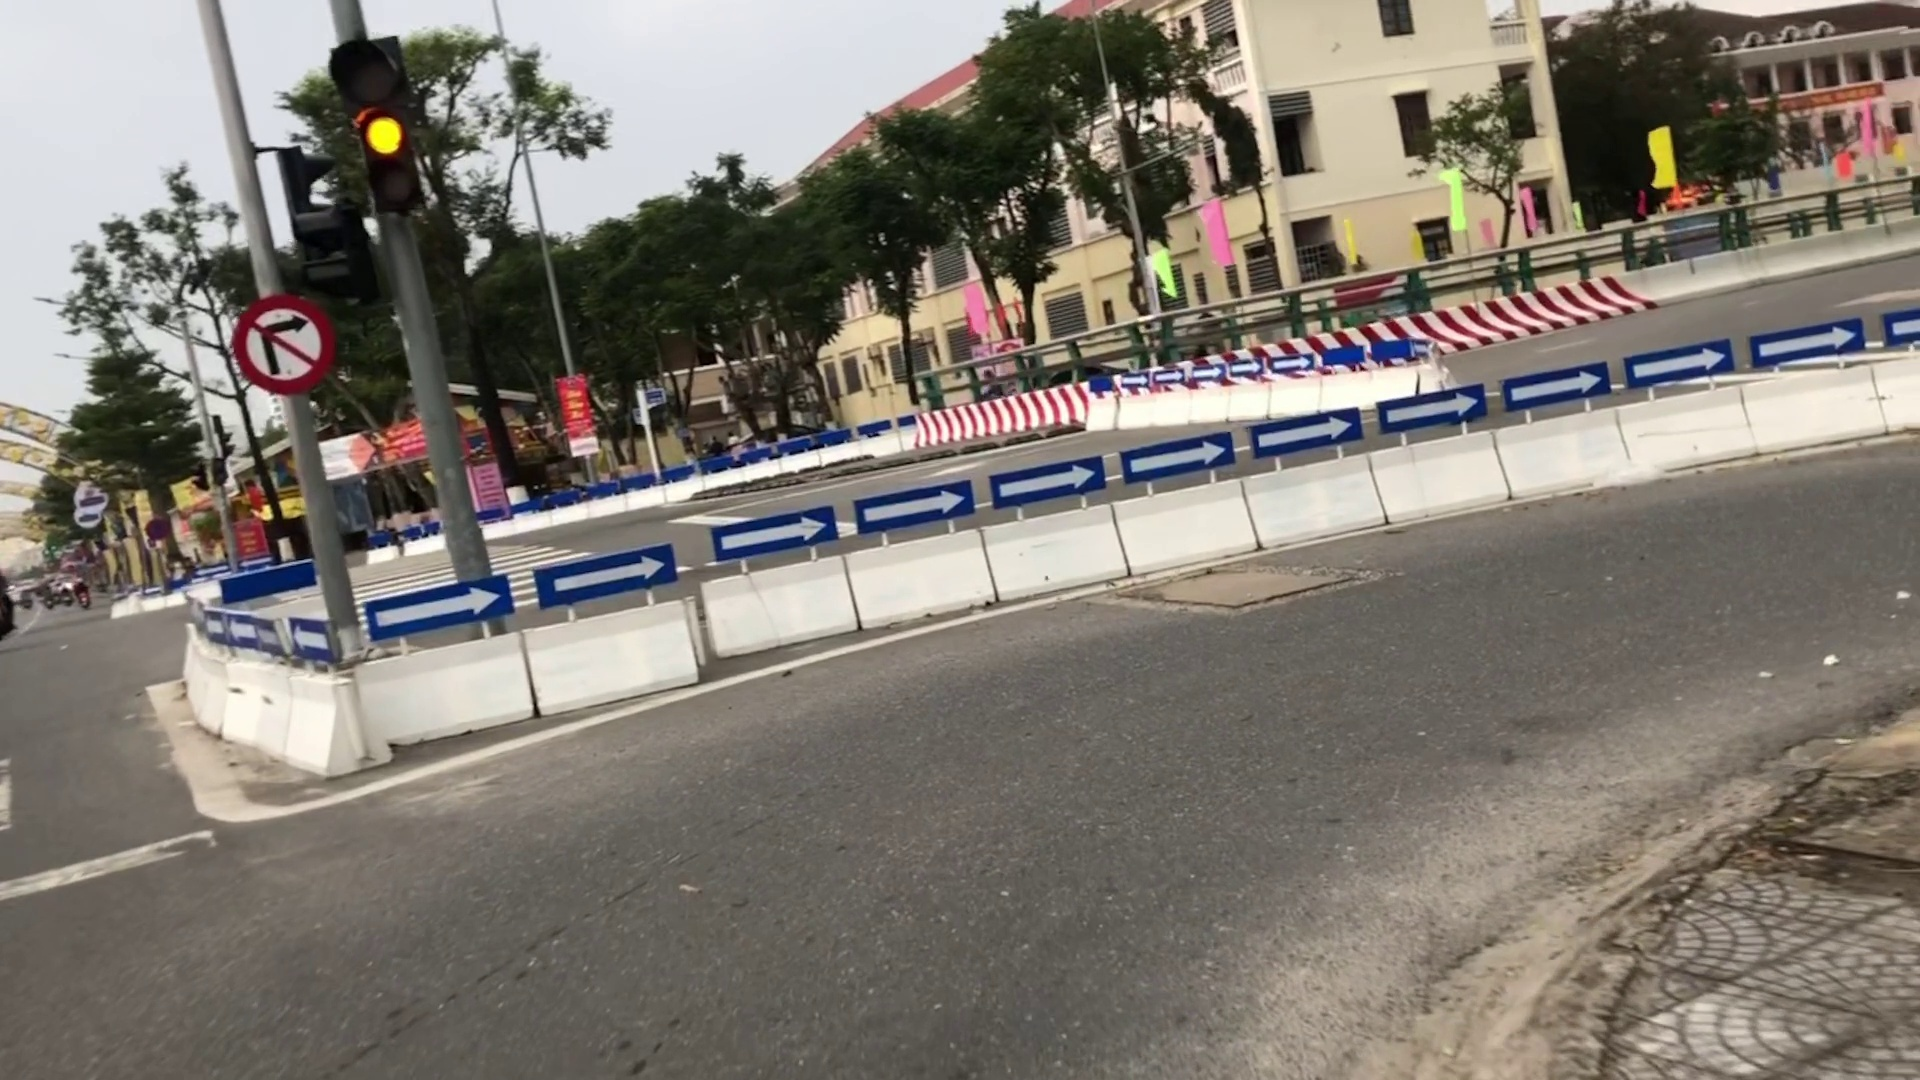Bien khac: (229, 293, 339, 394)
